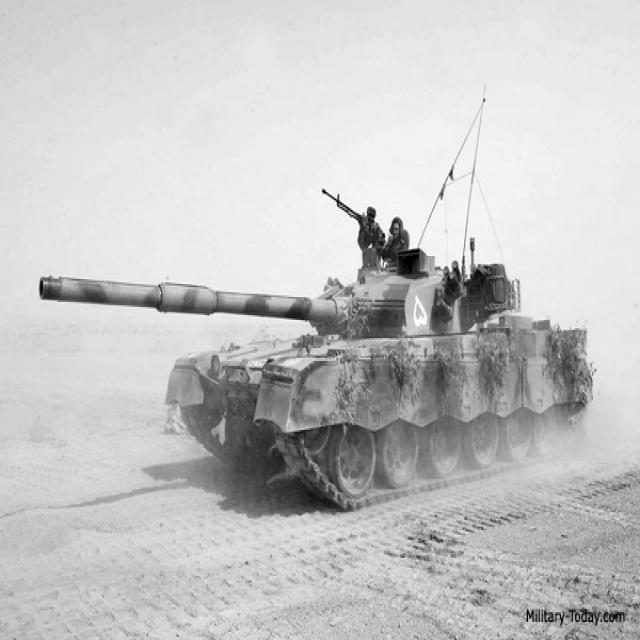Tank: (38, 257, 603, 512)
